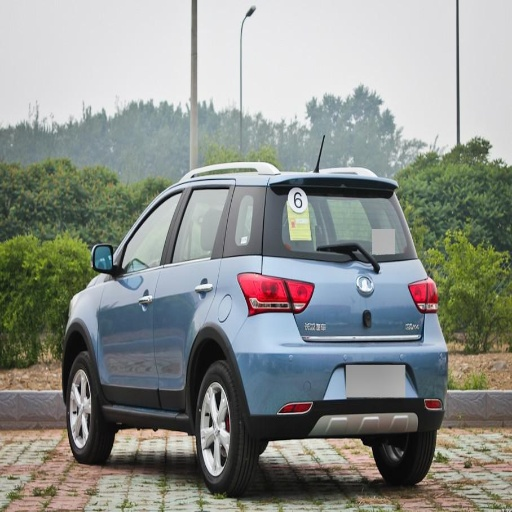back_bumper: (232, 313, 442, 440)
back_glass: (269, 184, 413, 261)
back_left_door: (154, 181, 224, 408)
trunk: (284, 262, 422, 362)
